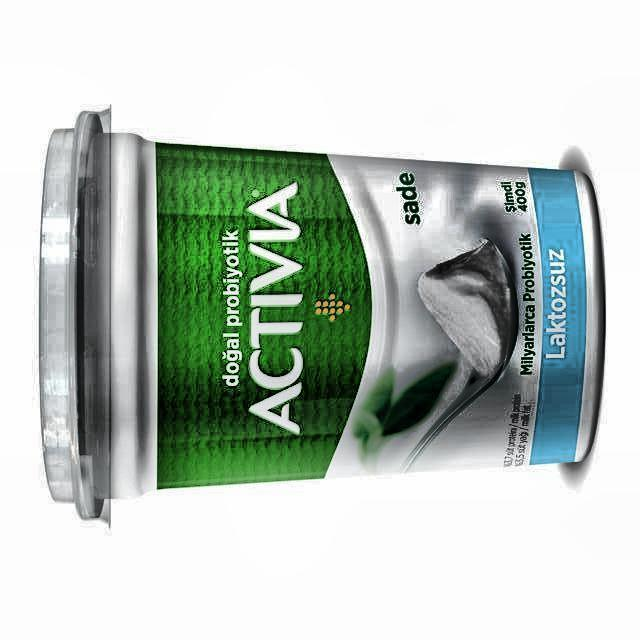plastic: (41, 115, 605, 511)
